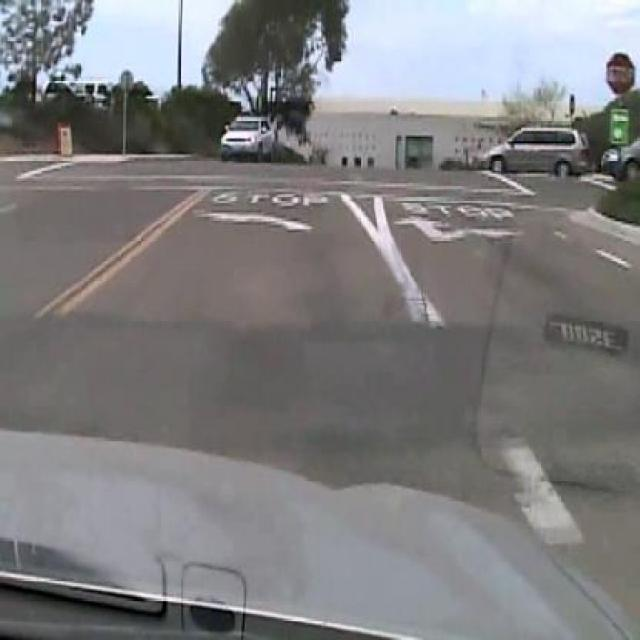Stop: (603, 50, 637, 96)
